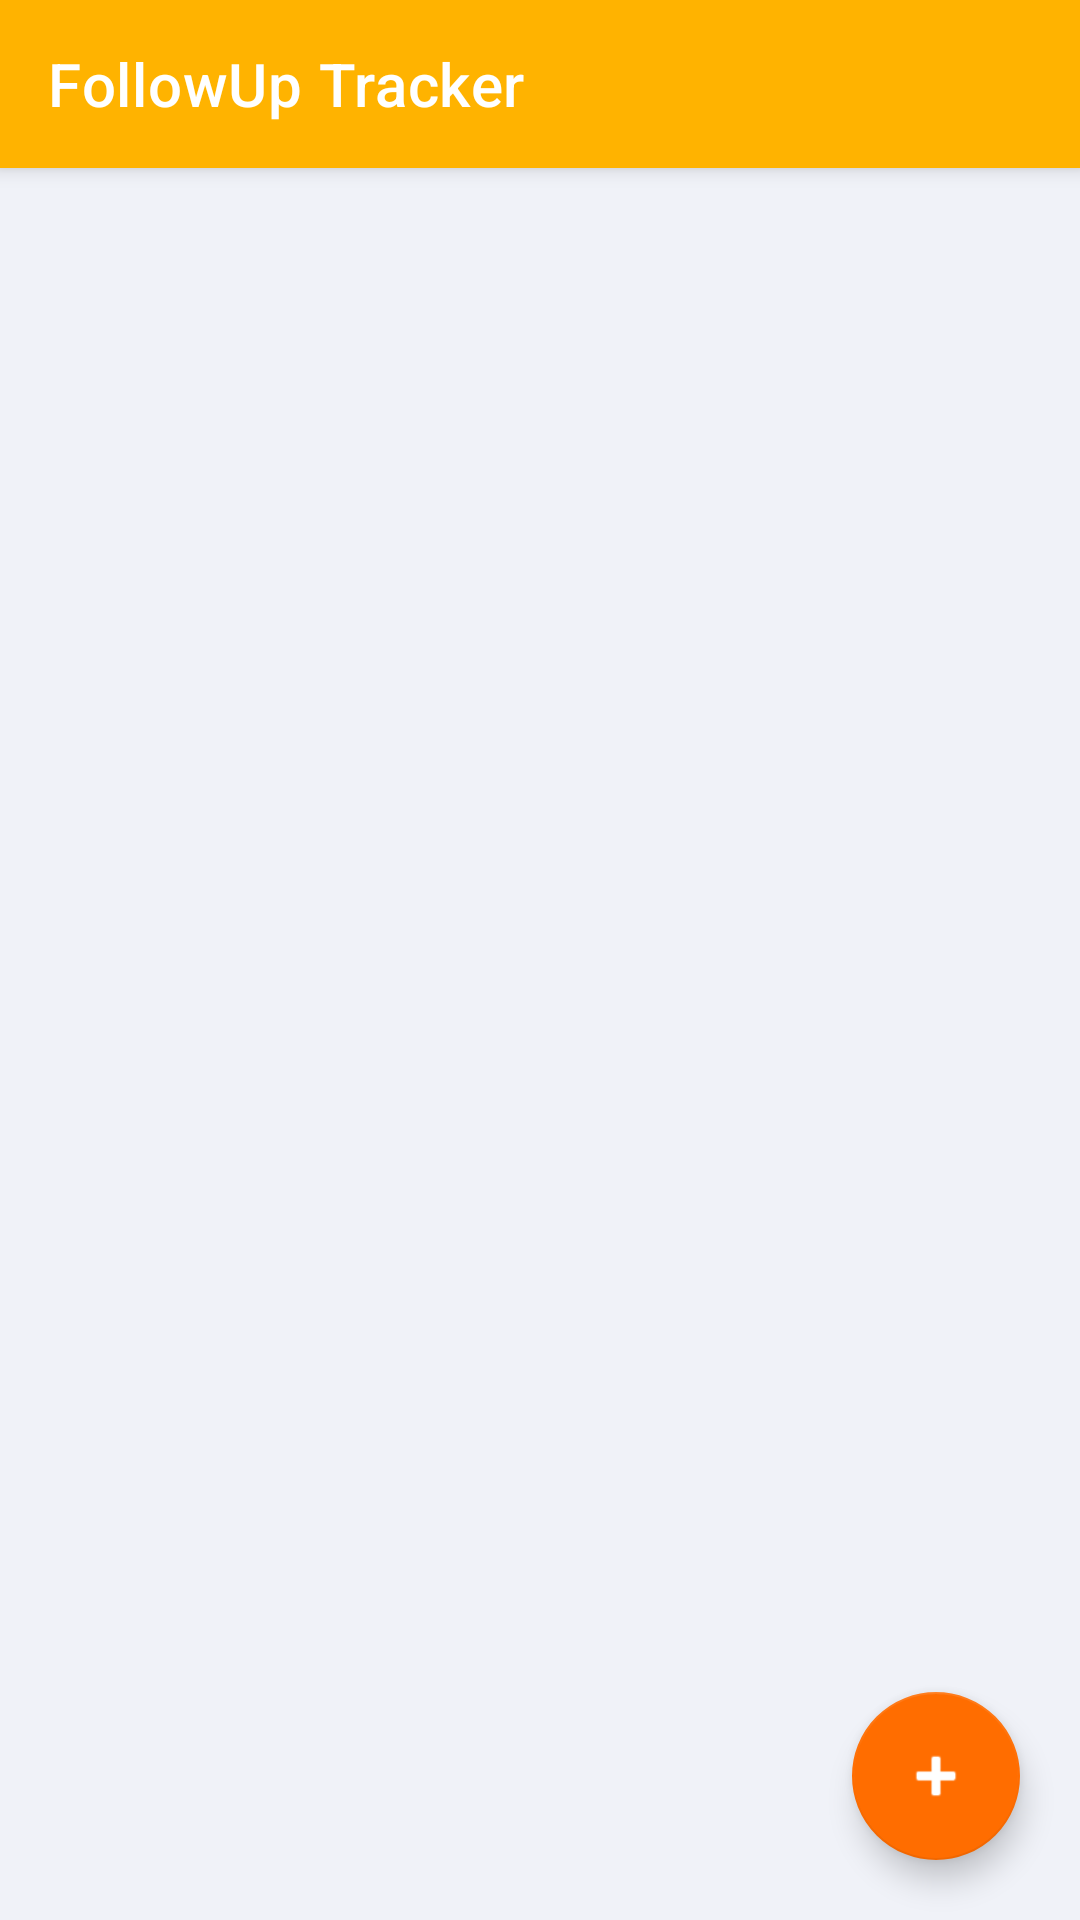

Icon click points for this 1080×1920 phone screenshot, format point (x, y):
Add Prospect: point (936, 1776)
